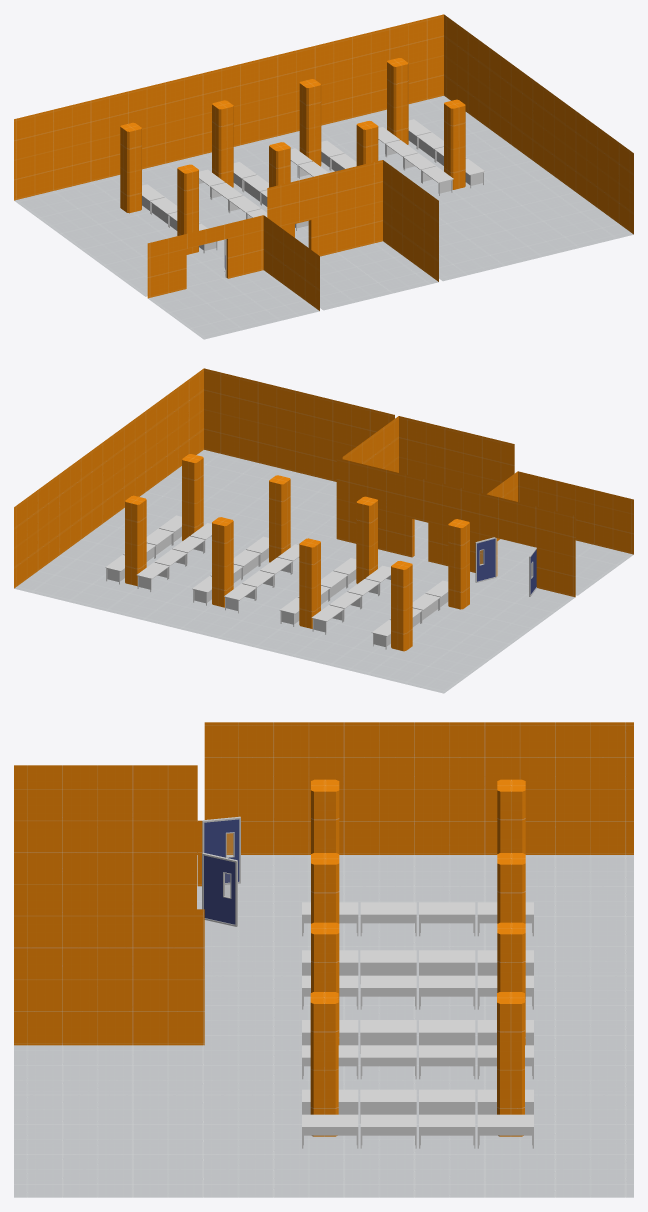
File: office.glb
The picture shows the model from 3 angles, top to bottom: view 1: azimuth 30°, elevation 25°; view 2: azimuth 150°, elevation 25°; view 3: azimuth 270°, elevation 25°; orthographic projection. The views are drawn at different scales.
Parts seen in each view (by area): view 1: Office, Pillar (×8); view 2: Office, Pillar (×8), Door.001; view 3: Office, Pillar (×8), Desk (×16), Cube.002 (×5), Door.001, Door.
Part boxes in pixels (bbox=[...]): Office: bbox=[14, 14, 633, 339]; Pillar (×8): bbox=[120, 58, 465, 254]; Office: bbox=[14, 368, 633, 693]; Pillar (×8): bbox=[125, 454, 469, 651]; Door.001: bbox=[475, 537, 496, 582]; Office: bbox=[14, 722, 633, 1197]; Pillar (×8): bbox=[310, 779, 525, 1136]; Desk (×16): bbox=[302, 902, 533, 1127]; Cube.002 (×5): bbox=[361, 963, 473, 1114]; Door.001: bbox=[202, 852, 237, 926]; Door: bbox=[202, 816, 240, 884].
Size of what is drawn, in the model's own units: 23.02 by 4.16 by 17.61.
6 materials, 3 textured.
